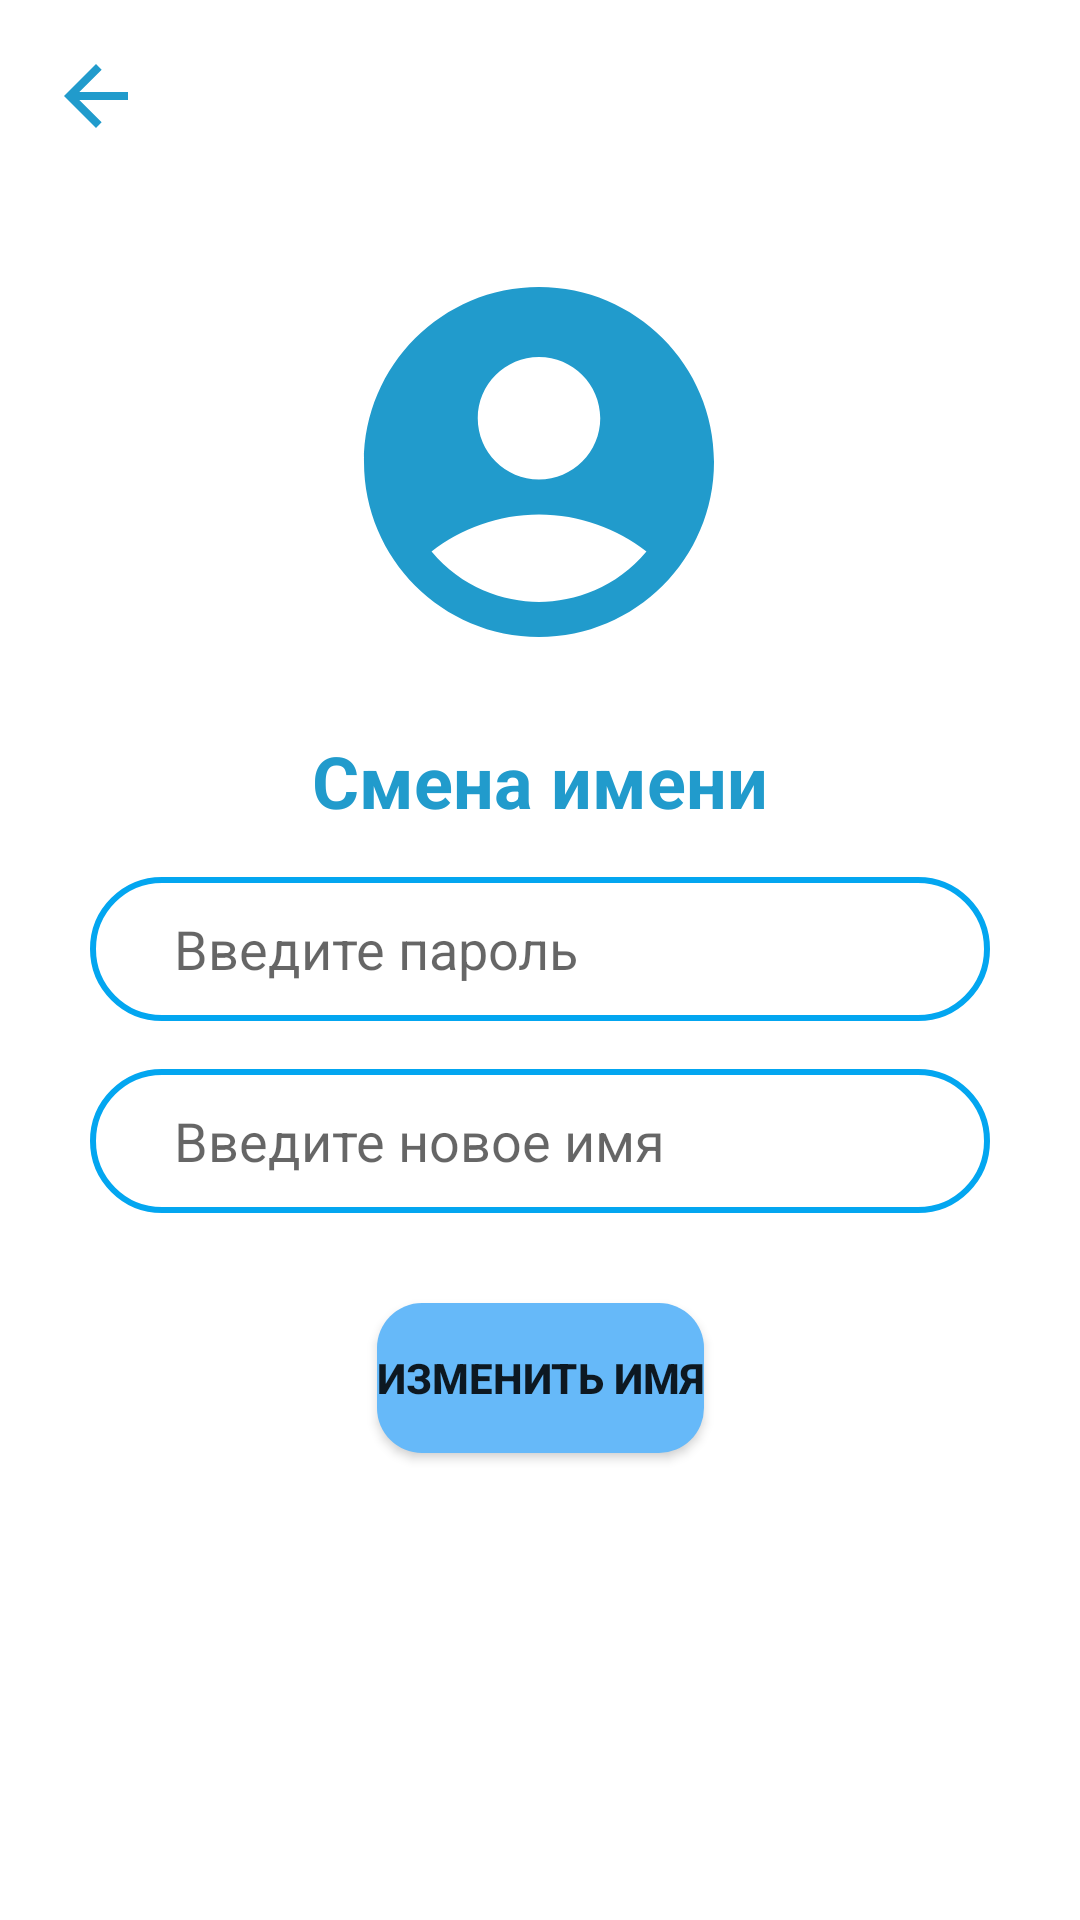

Screen size 1080*1920. Icon name, then its box in pixels as box=[x1, y1, x2, y2]:
accaunt circle: box=[364, 287, 714, 637]
back: box=[64, 64, 128, 128]
